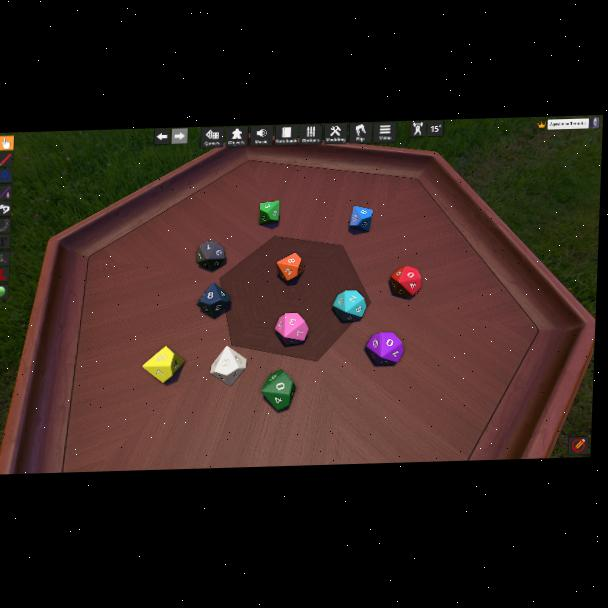d10: (143, 346, 186, 384), (209, 346, 247, 386), (260, 369, 296, 411), (196, 282, 231, 320), (367, 331, 403, 365), (274, 312, 309, 344), (332, 290, 365, 322), (392, 265, 422, 298), (195, 242, 226, 271), (276, 252, 304, 282), (348, 205, 373, 233), (259, 201, 280, 225)
